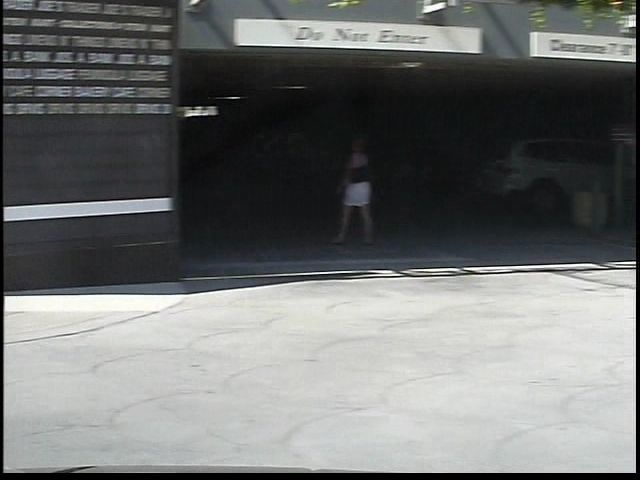person: (313, 133, 367, 253)
